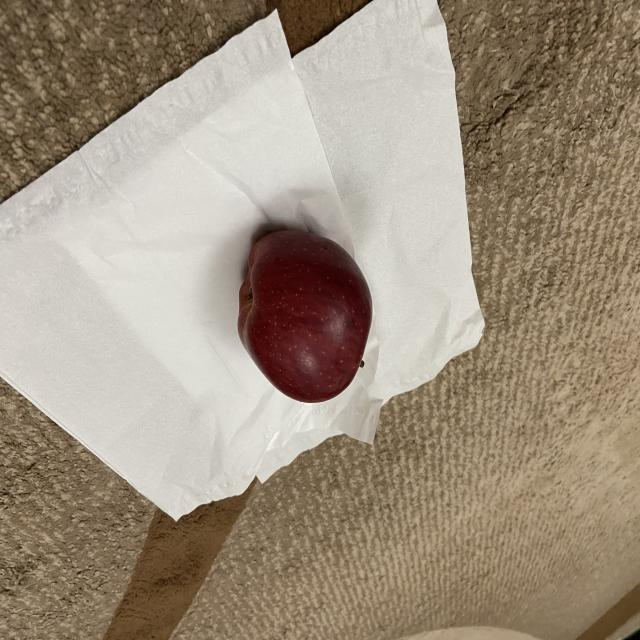apple: (233, 223, 379, 409)
